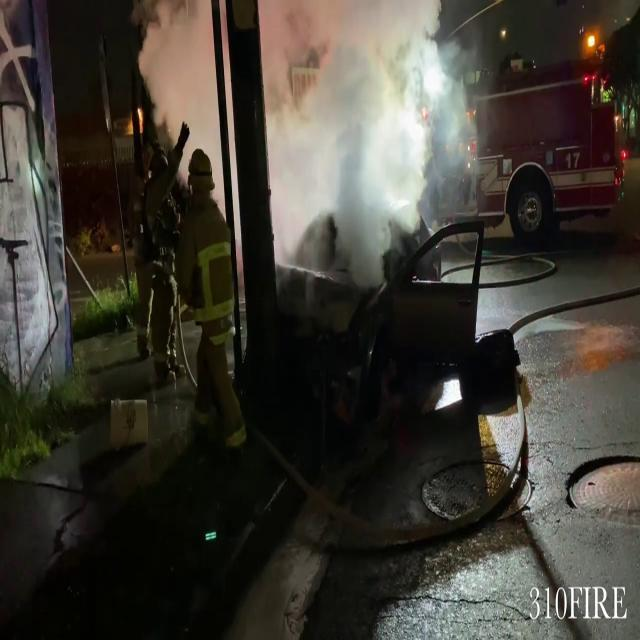Smoke: (139, 0, 482, 269), (261, 0, 482, 277)
